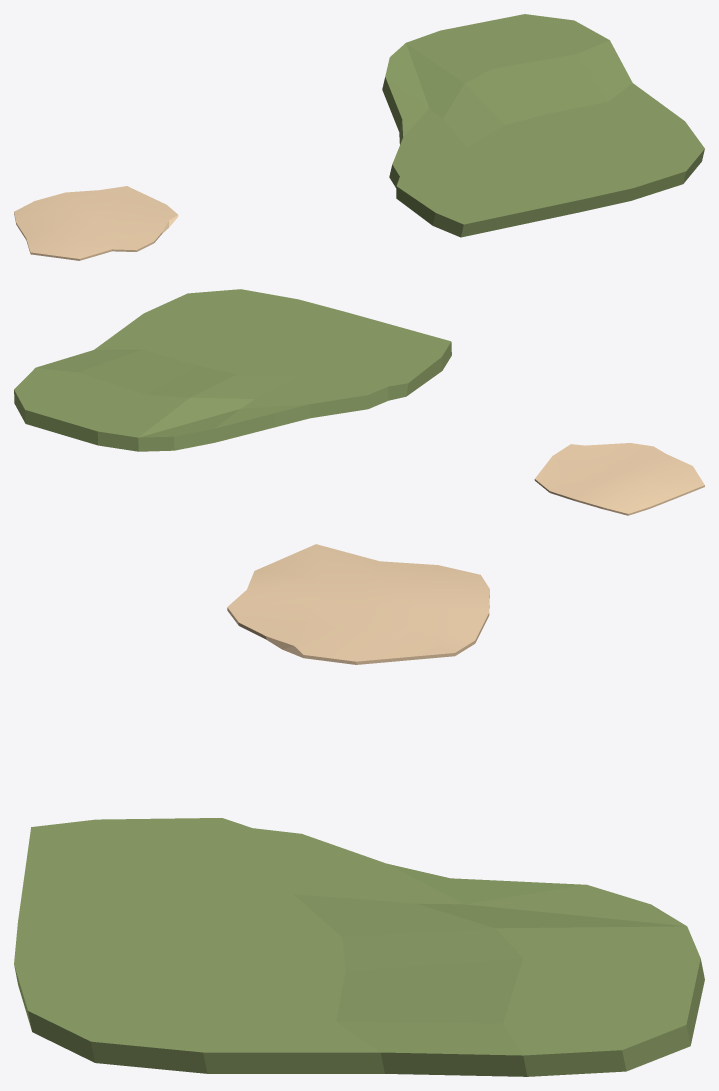
Rendered from mapss.fbx.
The picture shows the model from 3 angles, top to bottom: view 1: azimuth 30°, elevation 25°; view 2: azimuth 150°, elevation 25°; view 3: azimuth 270°, elevation 25°; orthographic projection. The views are drawn at different scales.
Visible parts, largest first — view 1: Plane.100, Plane.063; view 2: Plane.100, Plane.063; view 3: Plane.100, Plane.063.
Boxes of the visible parts, x1,y1,x2,y2 form: Plane.100: (382, 14, 704, 237); Plane.063: (14, 186, 178, 260); Plane.100: (14, 289, 451, 451); Plane.063: (534, 443, 704, 515); Plane.100: (14, 818, 704, 1076); Plane.063: (227, 544, 489, 664).
Size of the model in its own units: 92119 by 2879 by 50666.
